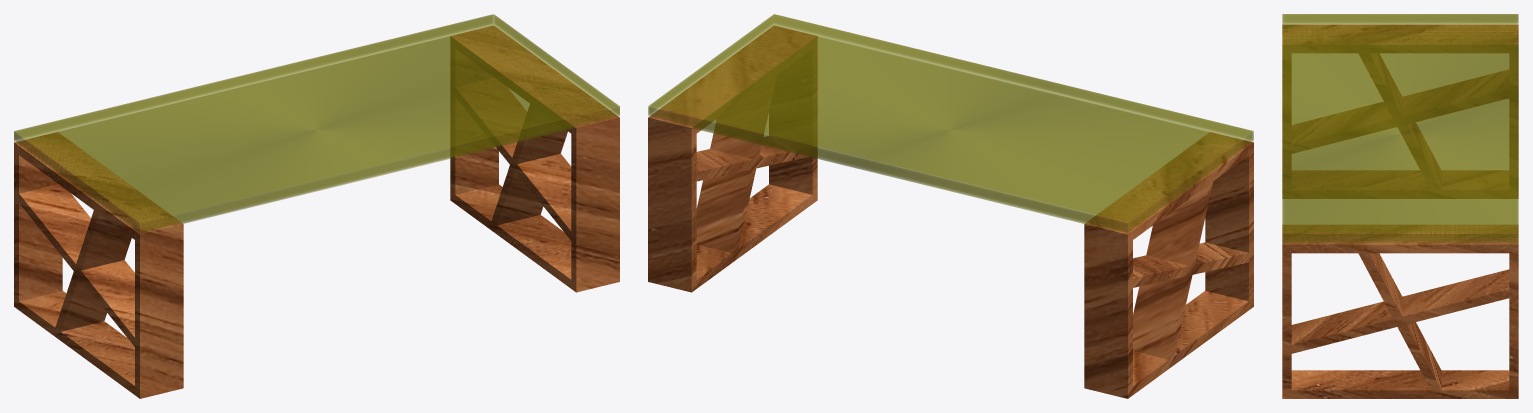
The model's file is coffeetable.gltf.
3 renders of one model, left to right at view 1: azimuth 30°, elevation 25°; view 2: azimuth 150°, elevation 25°; view 3: azimuth 270°, elevation 25°, orthographic. The views are drawn at different scales.
Parts seen in each view (by area): view 1: Walnut leg, green glass_clonedChild, green glass; view 2: green glass_clonedChild, Walnut leg, green glass; view 3: green glass_clonedChild, Walnut leg, green glass.
Part boxes in pixels (x1,y1,x2,y2): Walnut leg: [14, 25, 619, 398]; green glass_clonedChild: [14, 14, 619, 232]; green glass: [14, 15, 619, 232]; green glass_clonedChild: [648, 14, 1253, 232]; Walnut leg: [648, 25, 1253, 398]; green glass: [648, 14, 1253, 233]; green glass_clonedChild: [1282, 14, 1518, 242]; Walnut leg: [1282, 24, 1518, 398]; green glass: [1283, 14, 1518, 243].
Bounding box in the file's own units: 1.1 × 0.385 × 0.5.
Materials: 2 (2 with a texture image).
